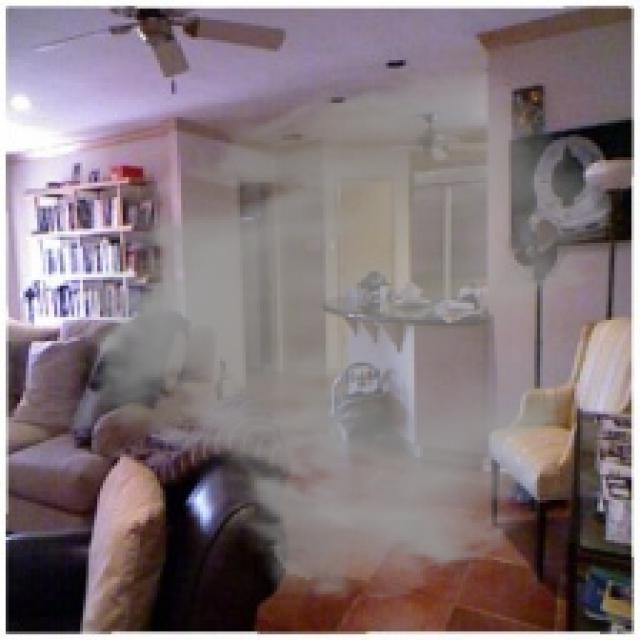smoke: (57, 63, 612, 606)
